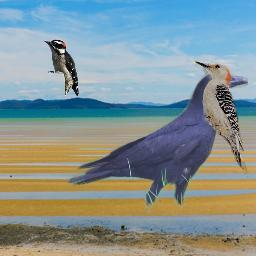Crow: (66, 71, 248, 219)
Woodpecker: (194, 56, 248, 173), (43, 39, 80, 96)
